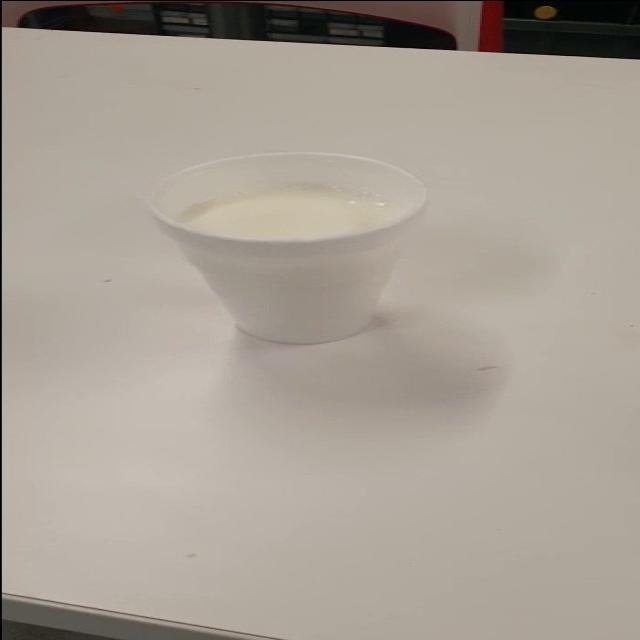Milk: (130, 139, 462, 368)
